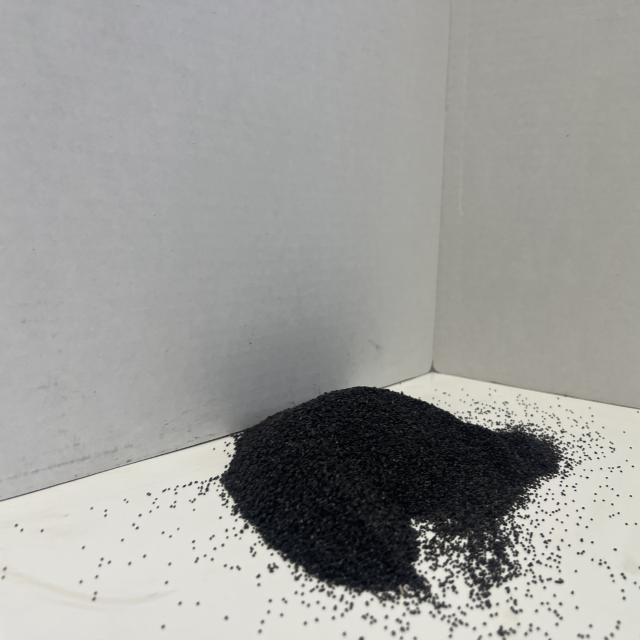Poppy Seeds: (239, 387, 543, 608)
